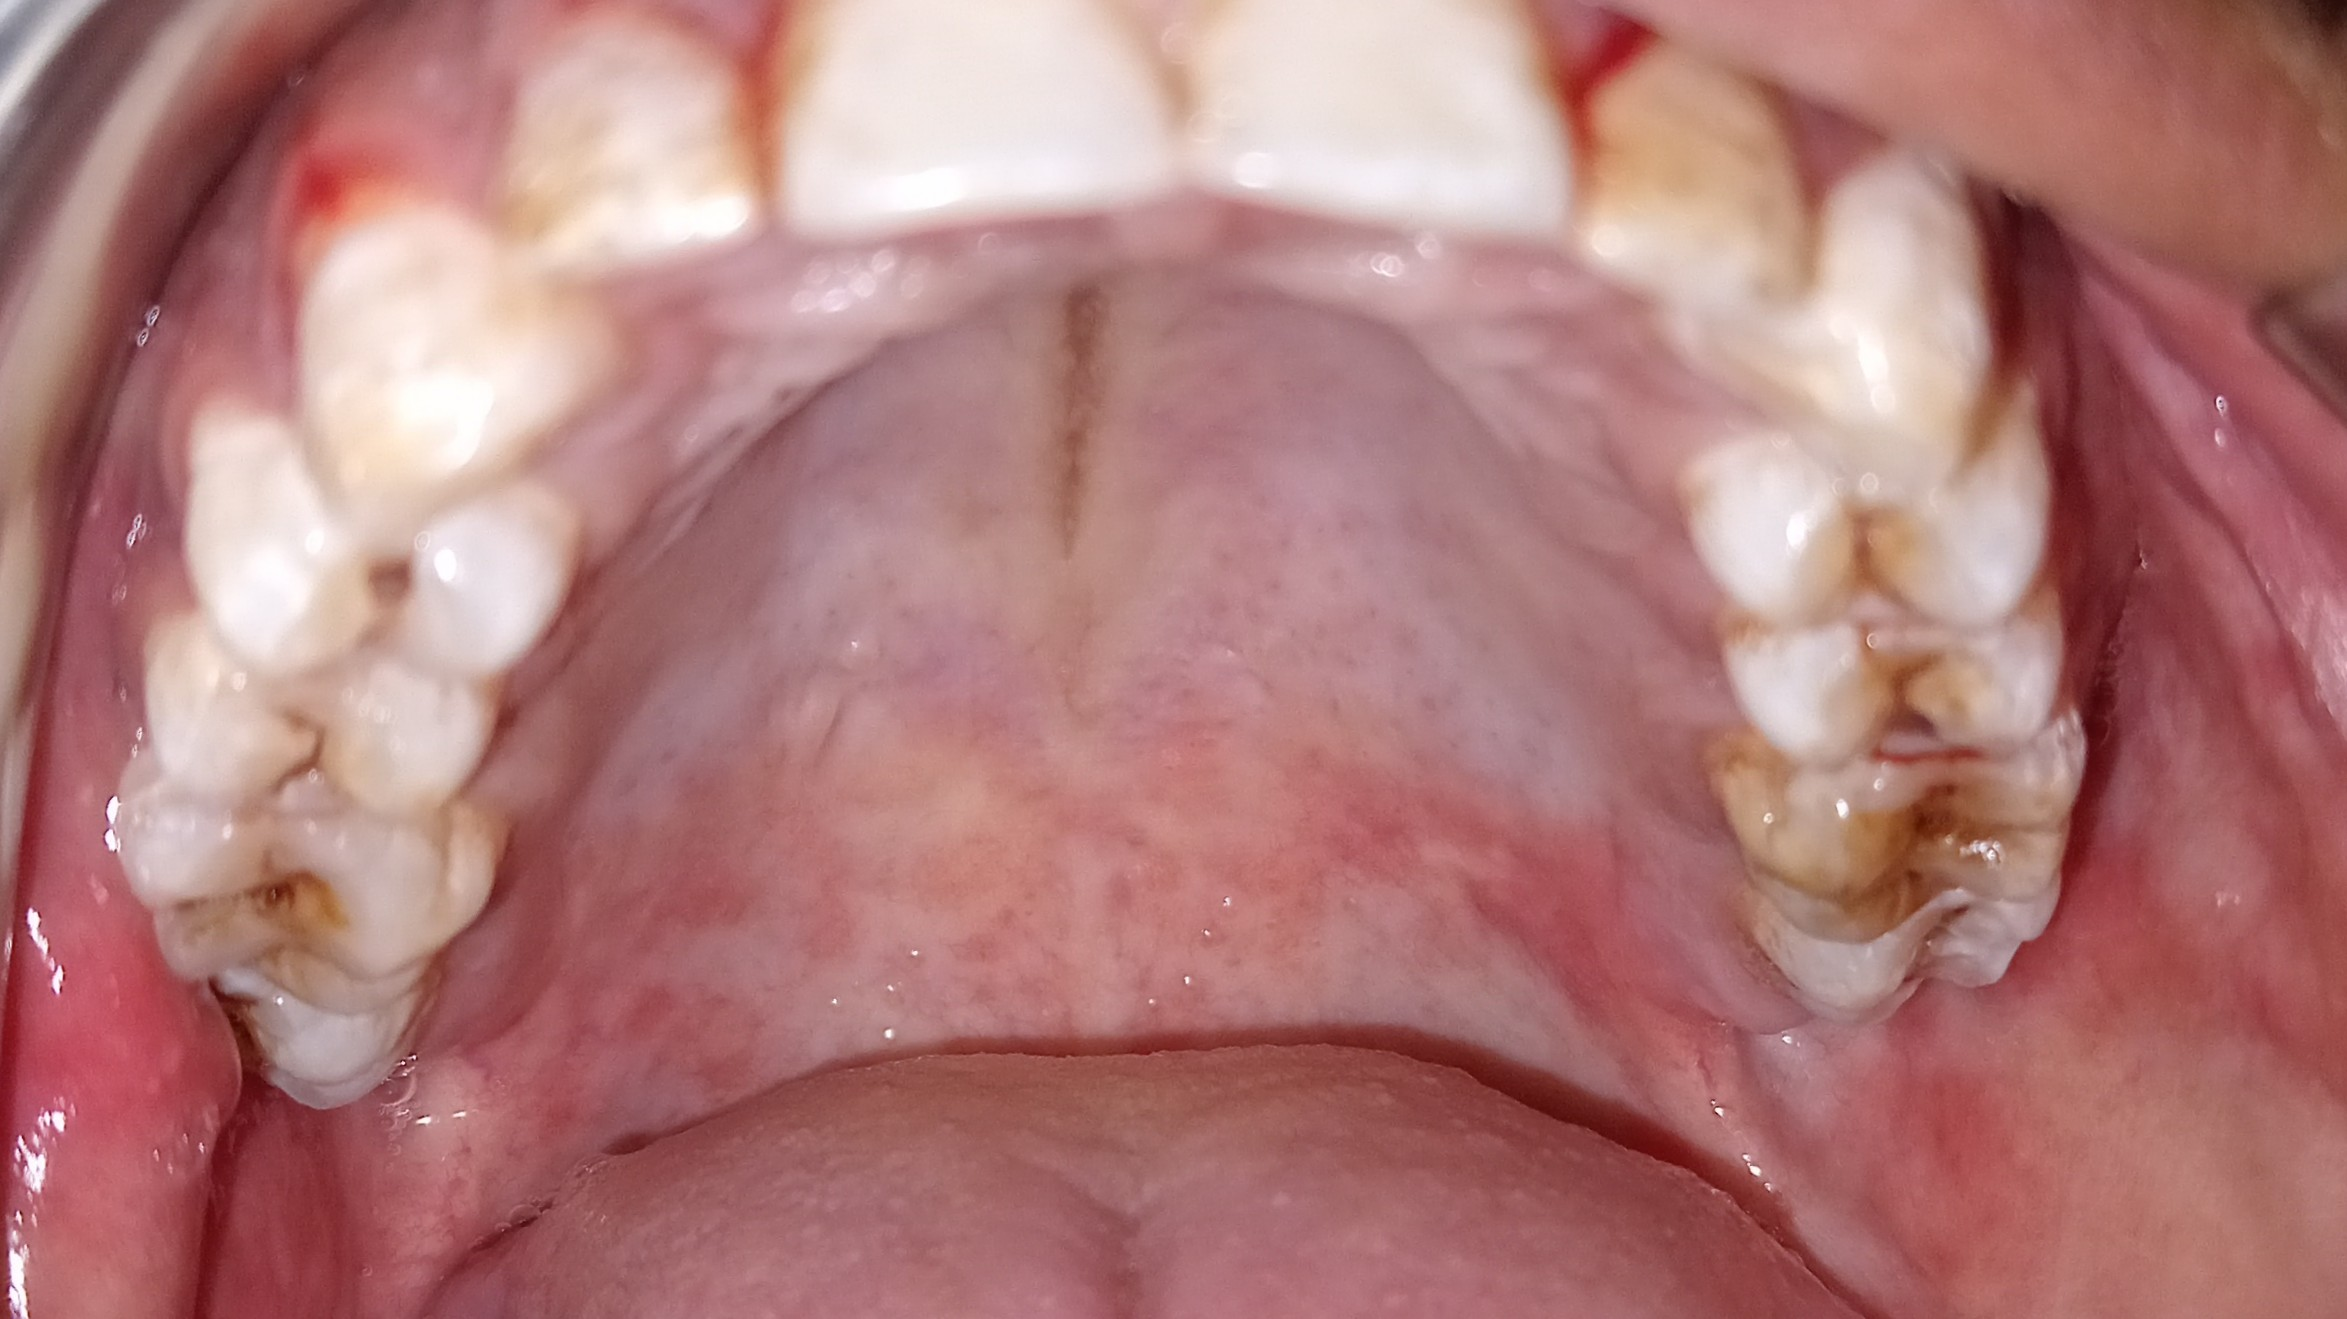D: (167, 431, 573, 674), (110, 778, 504, 1013), (1710, 716, 2082, 937), (134, 624, 499, 840), (1727, 594, 2069, 755)
